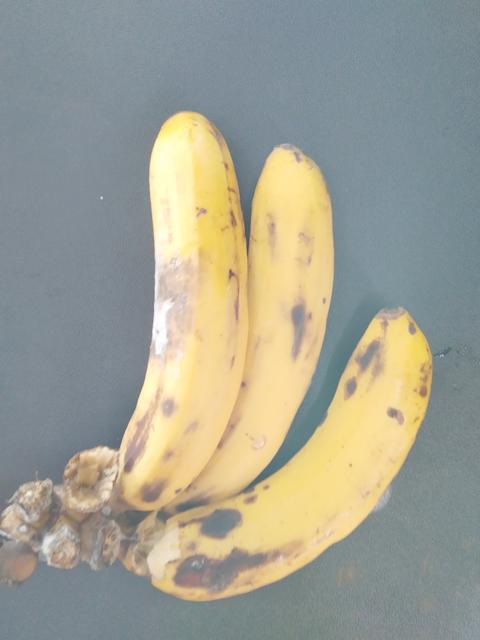ripe: (149, 306, 439, 619), (176, 135, 331, 511)
rotten: (99, 88, 246, 522)
